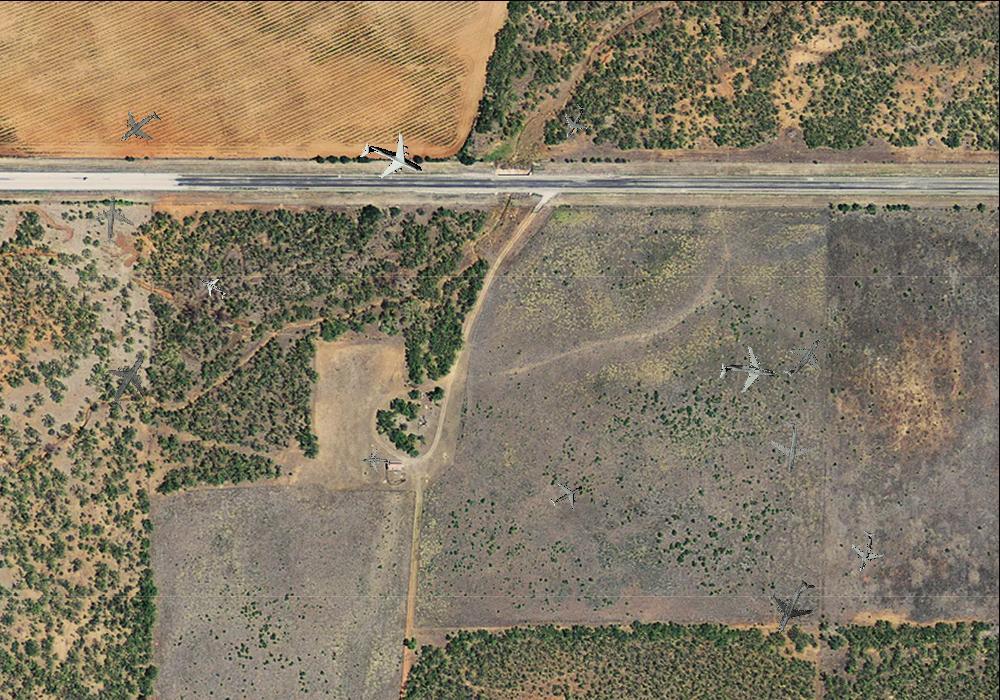plane: (351, 119, 433, 198), (89, 343, 167, 422), (758, 570, 829, 644), (772, 325, 835, 389), (716, 340, 781, 402), (108, 96, 170, 157), (764, 418, 820, 476), (85, 193, 136, 247), (841, 526, 890, 577), (552, 97, 597, 144), (544, 474, 589, 518), (193, 270, 231, 305), (359, 447, 391, 476)
